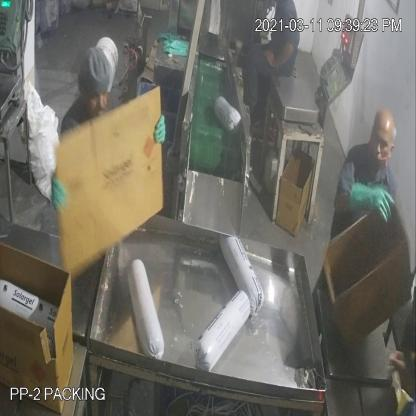glove: (345, 174, 399, 228)
no_glove: (261, 41, 302, 70)
